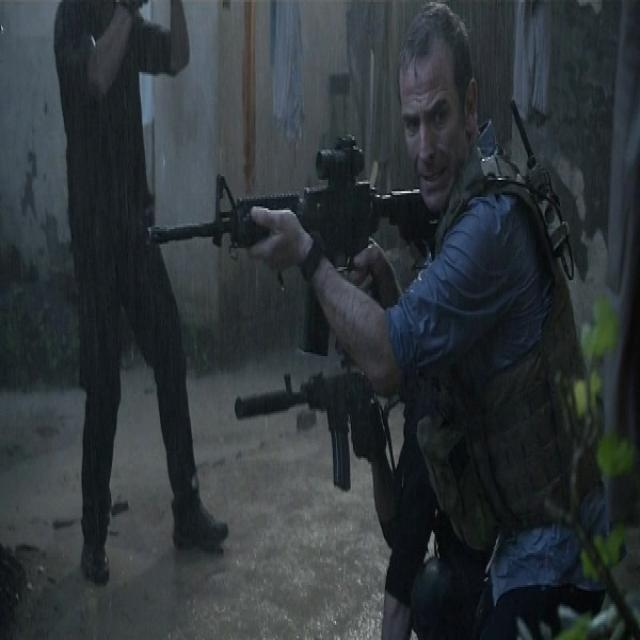rifle: (145, 129, 427, 355), (233, 365, 386, 496)
